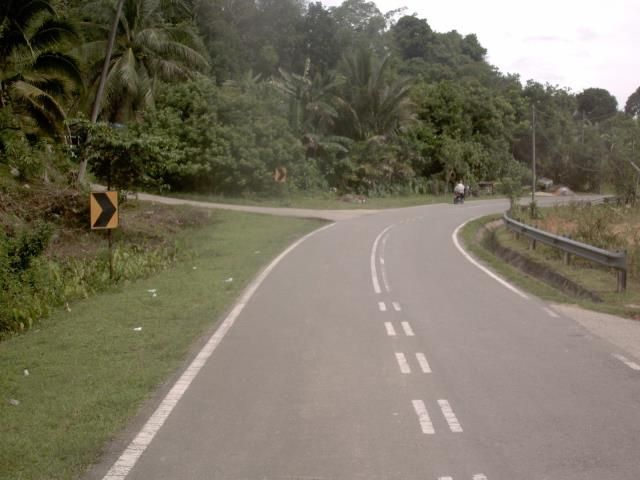traffic_sign: (82, 180, 126, 235)
